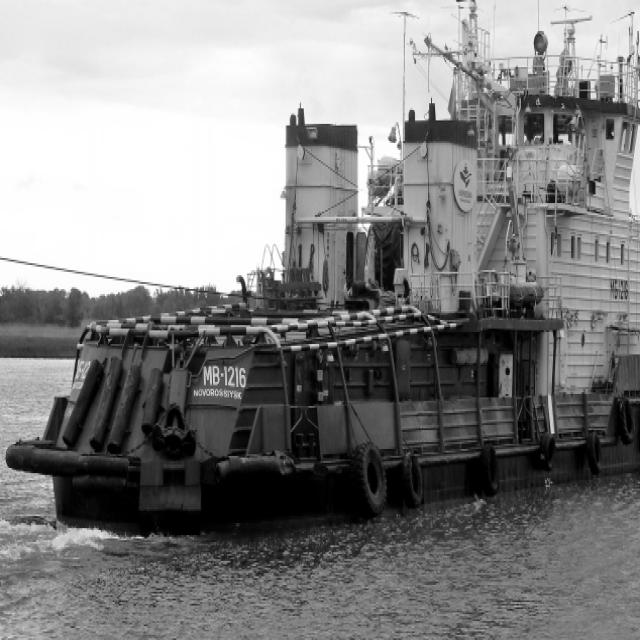tugboat: (4, 1, 640, 543)
